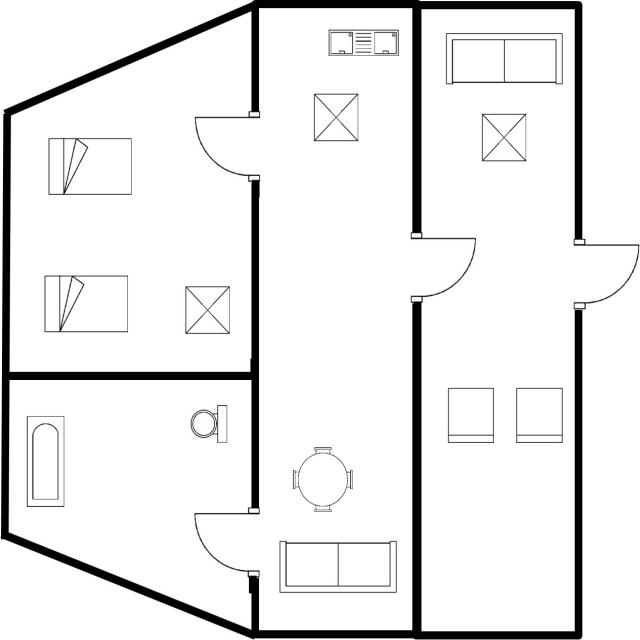bed: (40, 271, 130, 336), (44, 134, 135, 198)
coffee_table: (476, 109, 530, 166), (180, 280, 232, 338), (310, 90, 362, 145)
large_sink: (188, 402, 231, 448)
large_sofa: (274, 537, 402, 598), (440, 28, 566, 89)
round_table: (288, 442, 356, 514)
small_sofa: (441, 382, 496, 447), (512, 383, 566, 447)
tub: (21, 411, 69, 512)
twin_sink: (323, 23, 402, 63)
